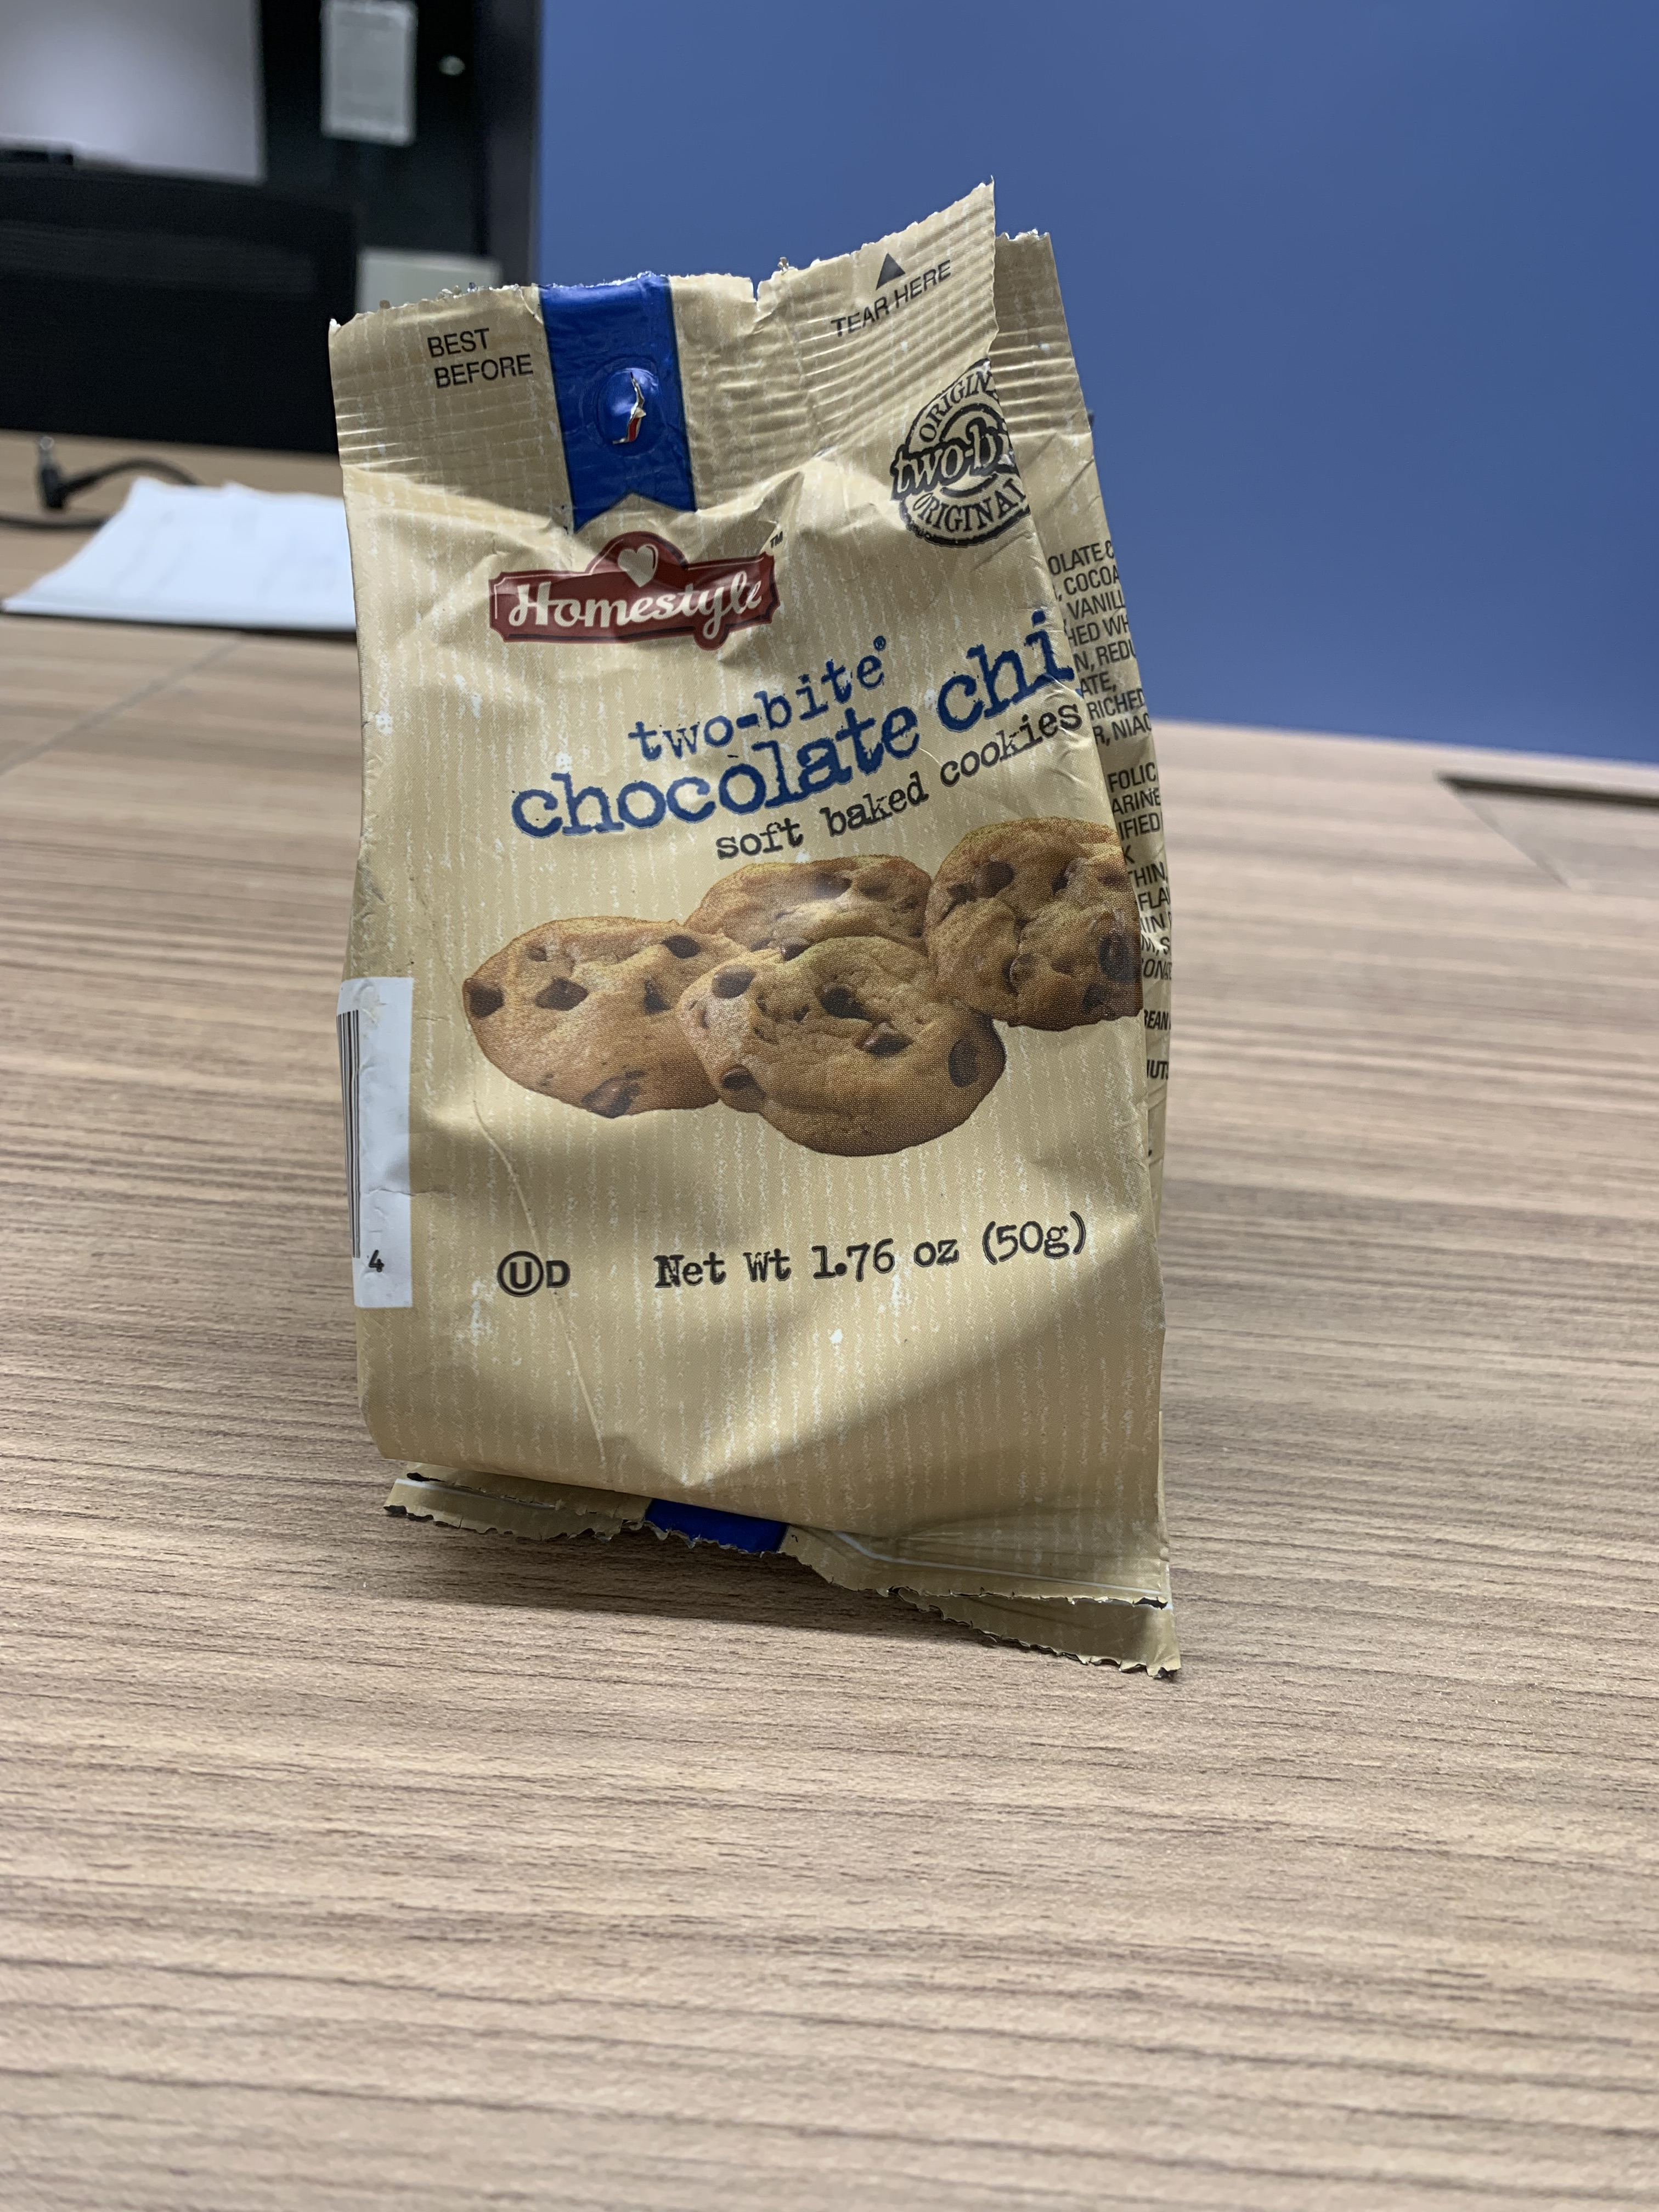cookies_1g-99g: (403, 310, 1147, 1474)
